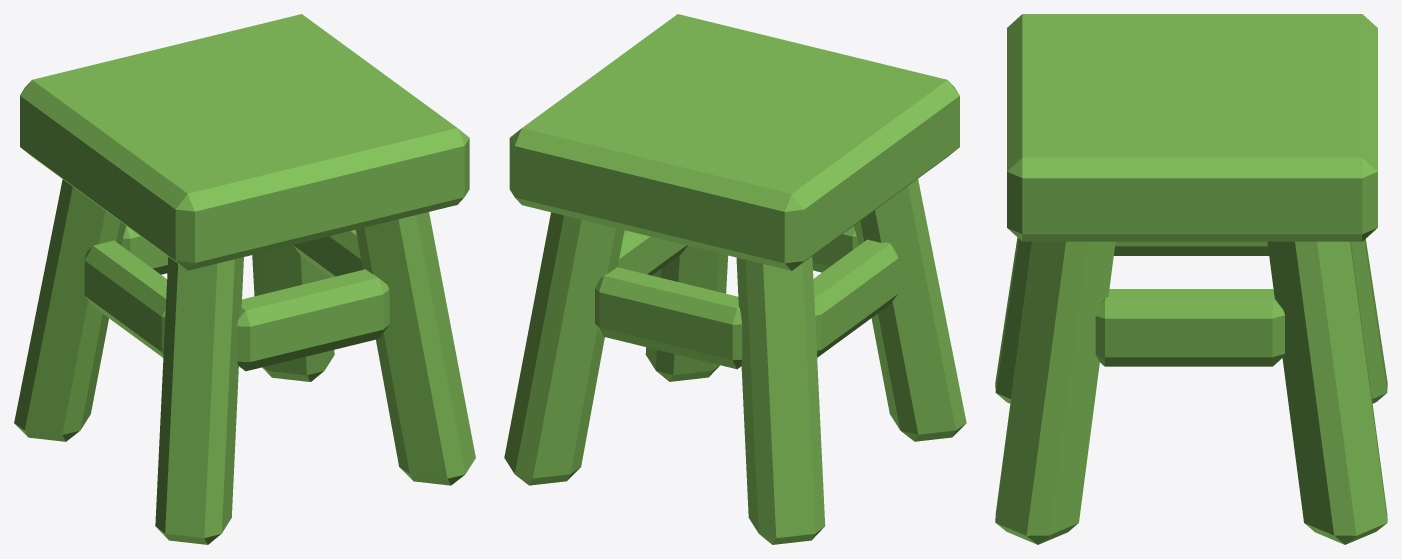
Rendered from chair_b_234.gltf.
3 renders of one model, left to right at view 1: azimuth 30°, elevation 25°; view 2: azimuth 150°, elevation 25°; view 3: azimuth 270°, elevation 25°, orthographic. The views are drawn at different scales.
Visible parts, largest first — view 1: chair_b004; view 2: chair_b004; view 3: chair_b004.
Boxes of the visible parts, x1,y1,x2,y2 form: chair_b004: [14, 14, 475, 544]; chair_b004: [504, 14, 966, 544]; chair_b004: [995, 14, 1387, 544].
Bounding box in the file's own units: 0.4227 × 0.4537 × 0.4233.
1 material, 1 textured.
